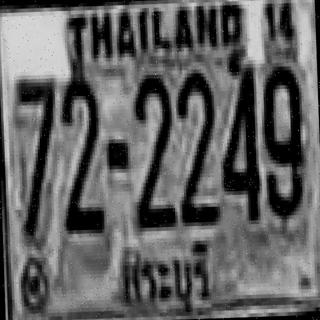N02: (58, 74, 103, 228), (173, 69, 217, 222), (130, 70, 173, 224), (131, 72, 174, 211), (175, 71, 215, 210)
N04: (217, 54, 258, 219)
N07: (14, 74, 59, 236)
N09: (260, 62, 303, 216)
P62: (116, 240, 224, 320)
